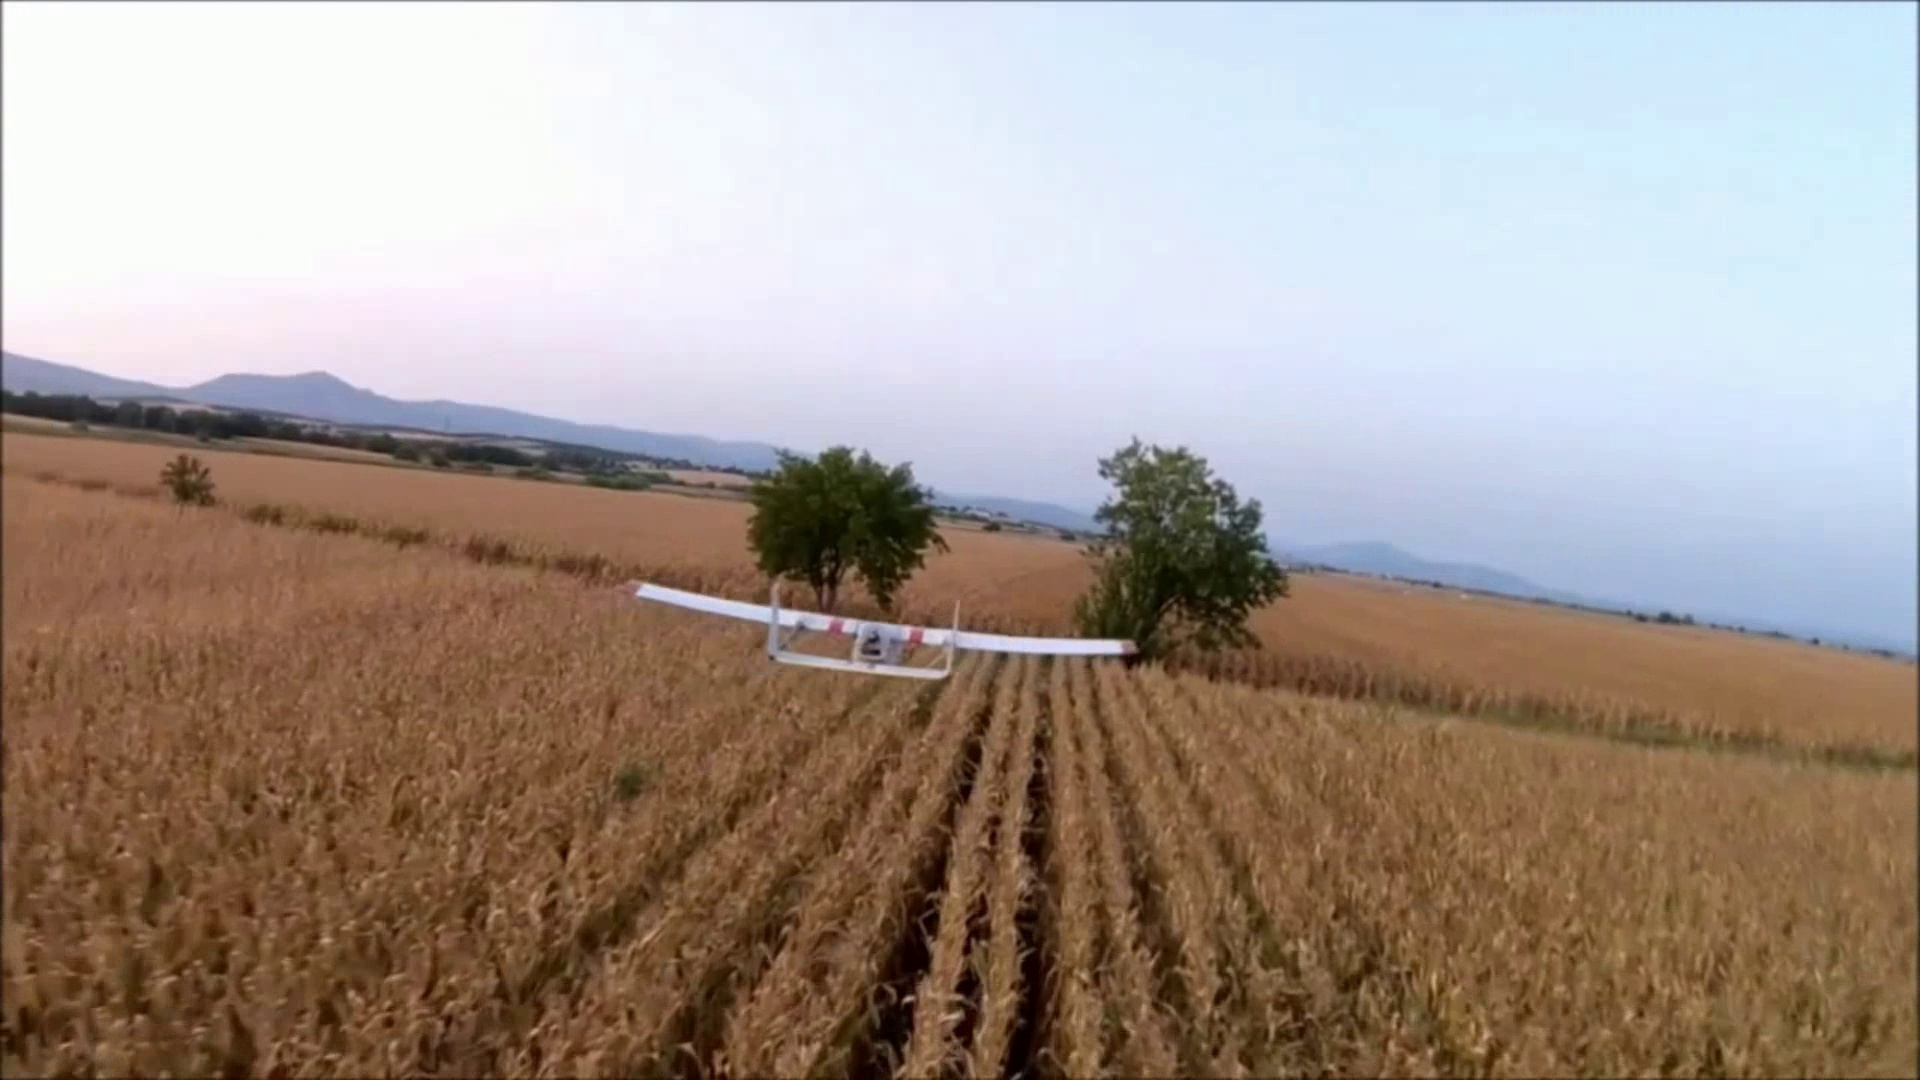airplane: (632, 580, 1138, 678)
